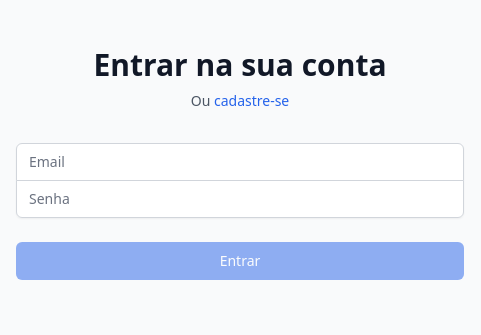
Test case: LoginForm Component › Form Submission › should show error message on login failure
Type "wrong@example.com" into the field labelled "Email". click: (240, 162)
box: [16,142,464,180]
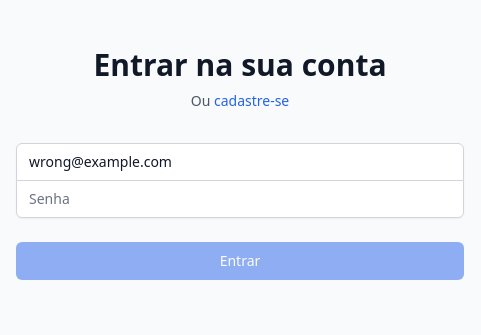
Type "wrongpassword" into the password field labelled "Senha". click: (240, 198)
box: [16,180,464,218]
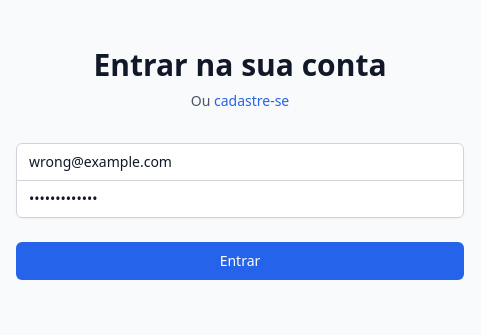
Click the button "Entrar". click: (240, 260)
box: [16,242,464,280]
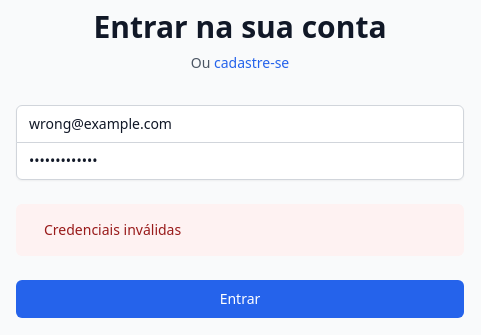
Expected: the heading "Credenciais inválidas" is shown, [44,220,181,240]
